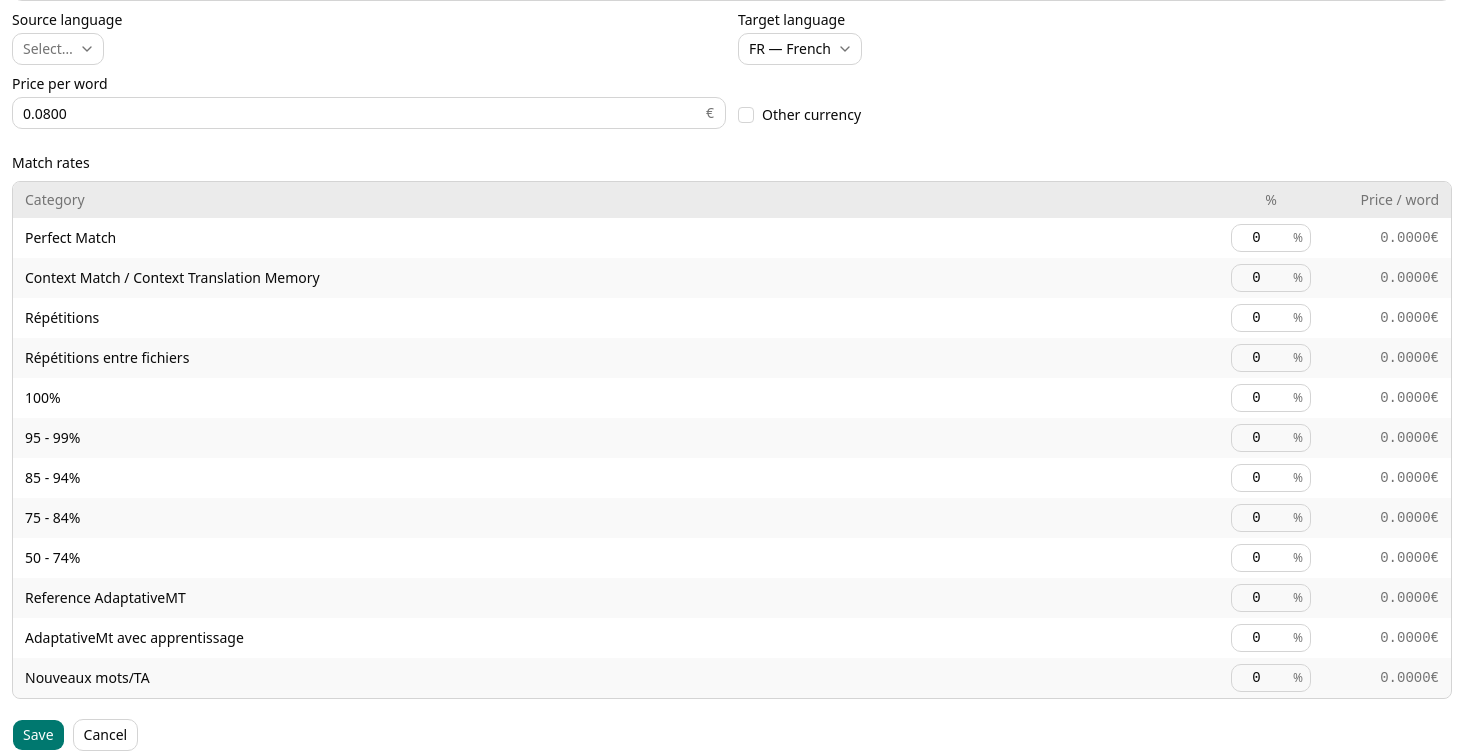
Scenario: RateSheetForm › shows error when occupation selected but sourceLanguage is missing
The image size is (1464, 751).
(page scrolled)
Click the button "Save". click: [38, 735]
box: [12,719,65,750]
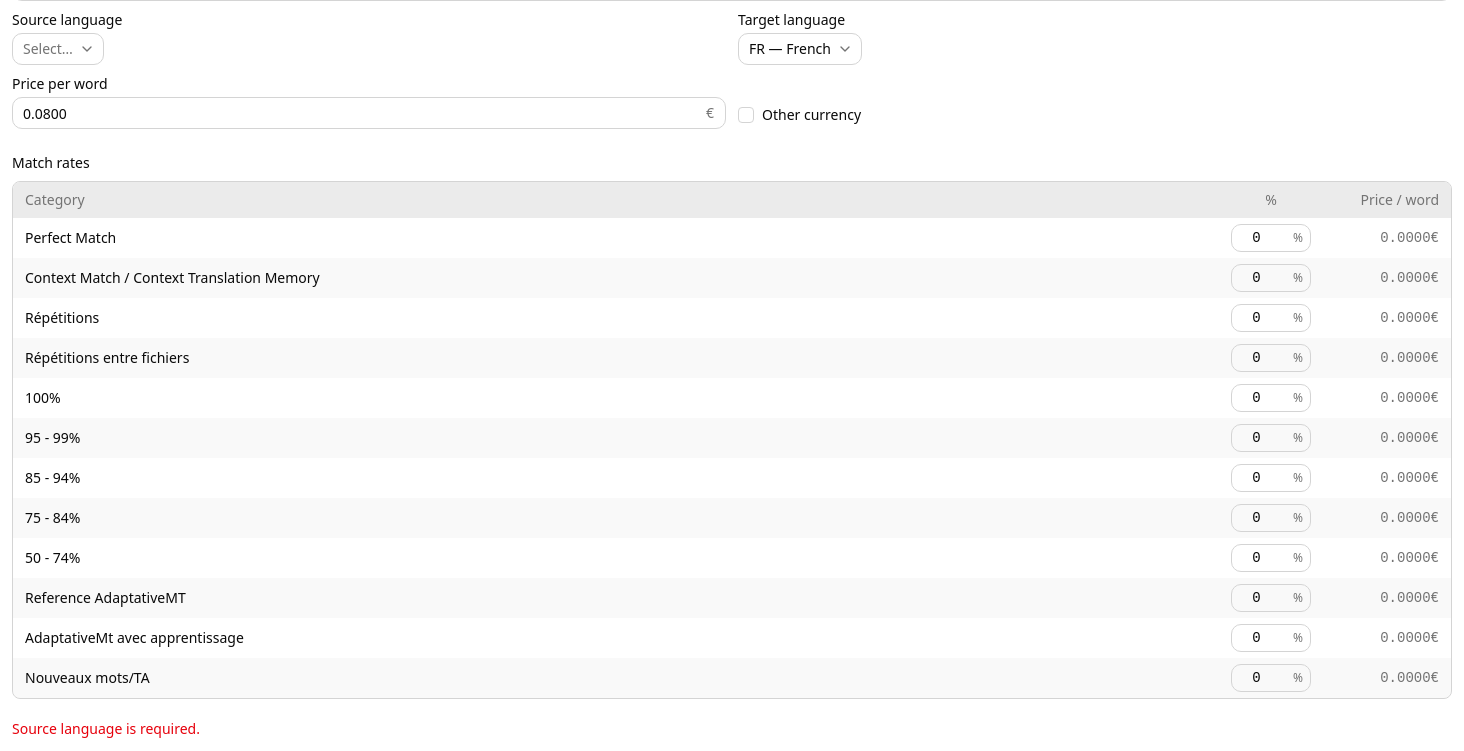
Result: the text "Source language is required." is shown at [12,719,200,738]
